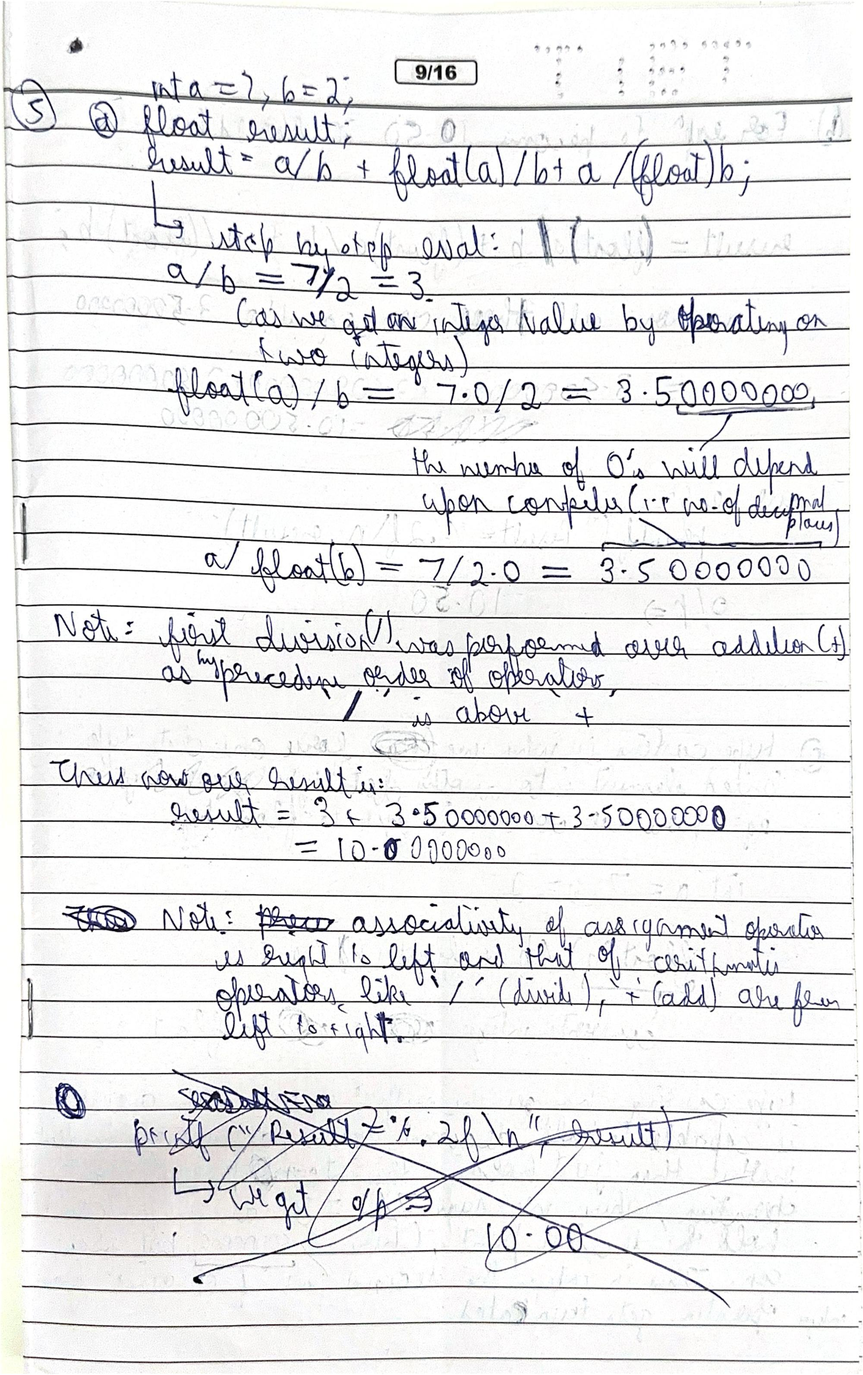cuttings: (129, 1057, 762, 1313), (251, 899, 342, 943), (57, 900, 146, 938), (44, 1078, 93, 1125)
